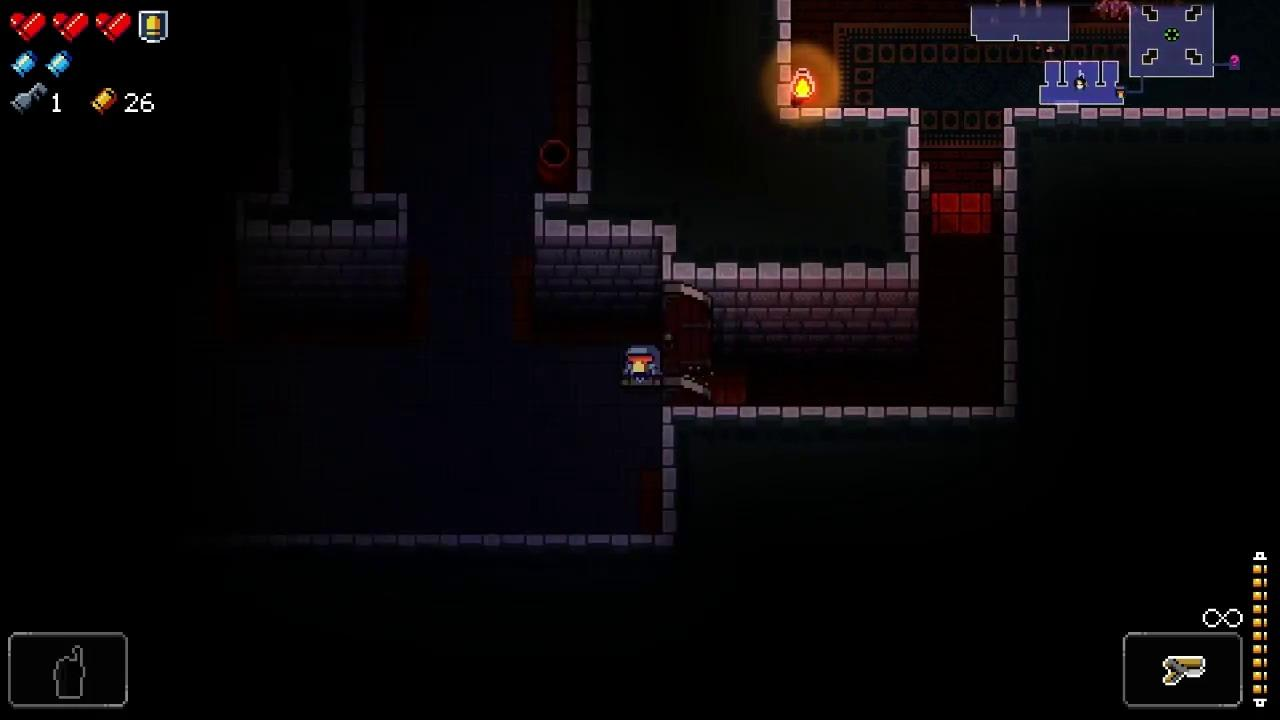player: (623, 346, 662, 387)
unlocked_door: (661, 283, 713, 408), (919, 160, 932, 239), (992, 161, 1003, 238)
